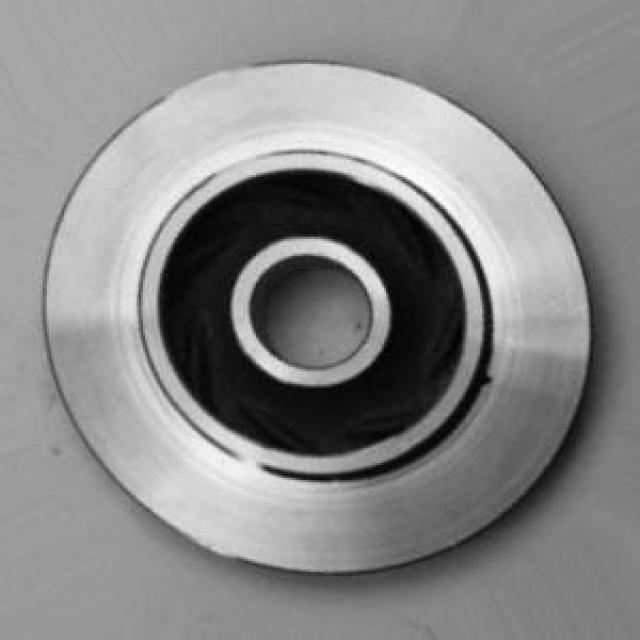Defect: (476, 366, 501, 399)
